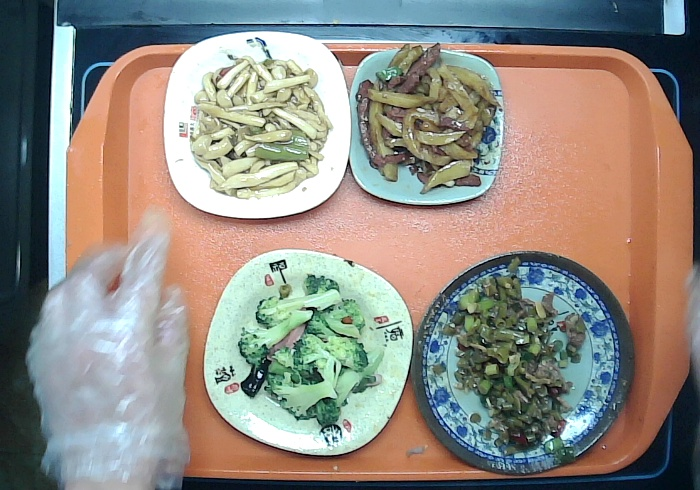NLDX-Bai_Se_Xiao_Fang_Die: (161, 29, 353, 225)
NLDX-Fu_Zi_Fang_Die: (196, 244, 417, 464)
NLDX-Qing_Hua_Xiao_Fang_Die: (343, 39, 507, 211)
NLDX-Qing_Hua_Yuan_Die: (400, 244, 641, 479)
